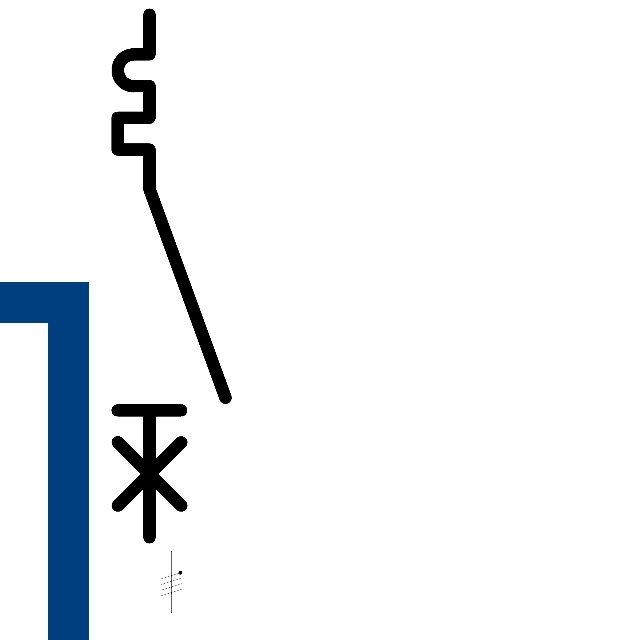interruptor_termomagnetico: (104, 1, 238, 551)
